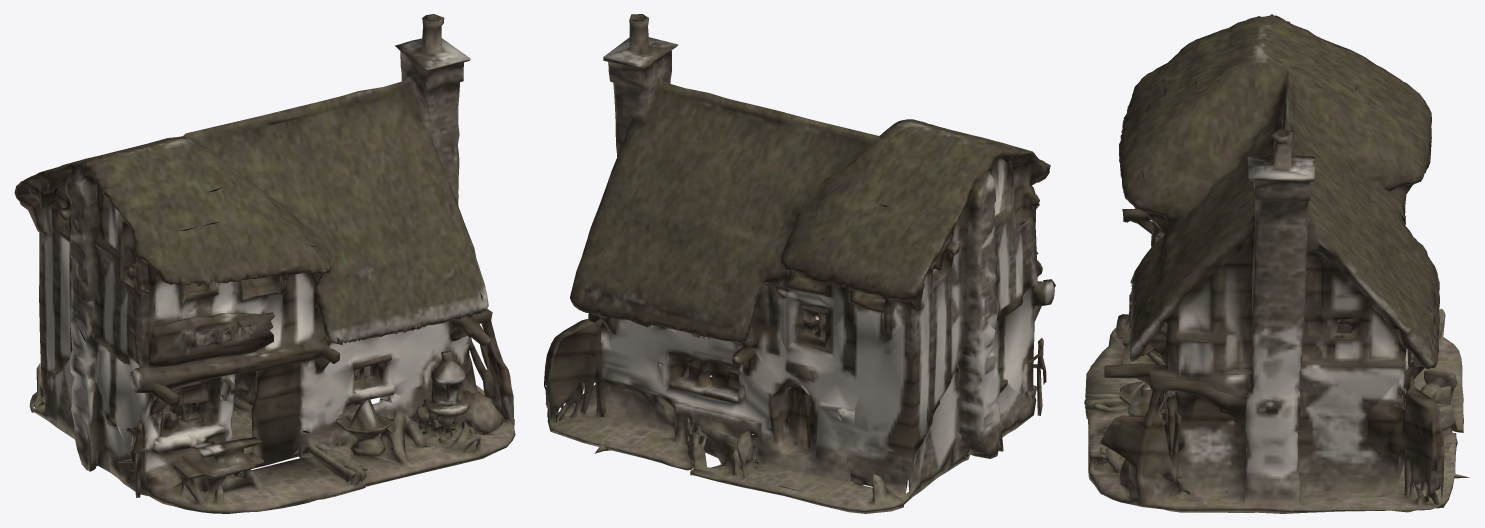
Rendered from blacksmith_thatch.glb.
The picture shows the model from 3 angles, left to right: view 1: azimuth 30°, elevation 25°; view 2: azimuth 150°, elevation 25°; view 3: azimuth 270°, elevation 25°; orthographic projection. The views are drawn at different scales.
Parts seen in each view (by area): view 1: blacksmith_thatch; view 2: blacksmith_thatch; view 3: blacksmith_thatch.
Part boxes in pixels (x1,y1,x2,y2): blacksmith_thatch: (14, 14, 515, 513); blacksmith_thatch: (544, 14, 1055, 513); blacksmith_thatch: (1084, 14, 1469, 513).
Bounding box in the file's own units: 8.17 × 7.5 × 7.09.
1 material, 1 textured.
